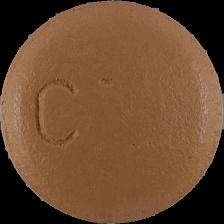65597-111: (0, 0, 224, 224)
